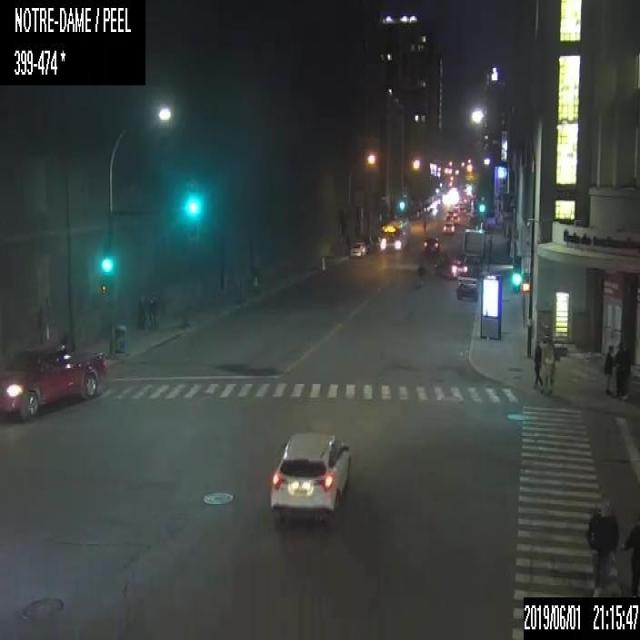bus: (376, 216, 409, 252)
construction: (320, 256, 325, 273)
cyclist: (413, 262, 427, 287), (422, 218, 426, 234)
pedestrian: (585, 493, 621, 595), (622, 510, 639, 594), (616, 341, 630, 399), (602, 340, 615, 396), (543, 340, 556, 395), (532, 337, 542, 392), (138, 296, 146, 327), (149, 296, 156, 328)
vehicle: (0, 339, 111, 421), (267, 428, 351, 523), (462, 227, 484, 259), (434, 256, 466, 277), (346, 238, 370, 256), (420, 233, 441, 252), (456, 282, 478, 300), (456, 272, 477, 285), (442, 220, 454, 234)
